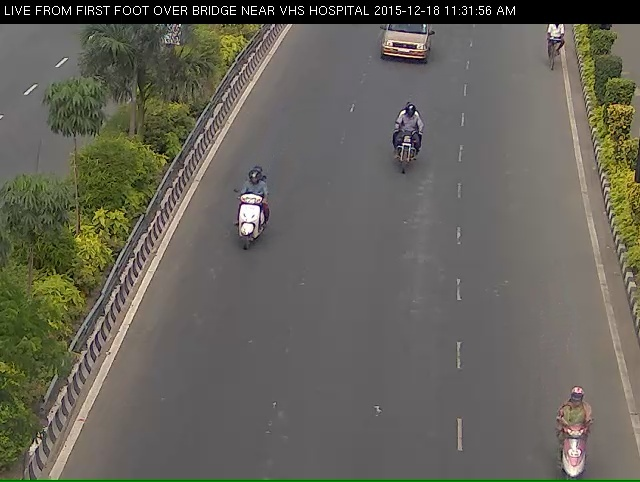Car: (368, 19, 438, 79)
Person: (223, 180, 269, 276), (380, 114, 430, 197), (552, 413, 603, 482)
